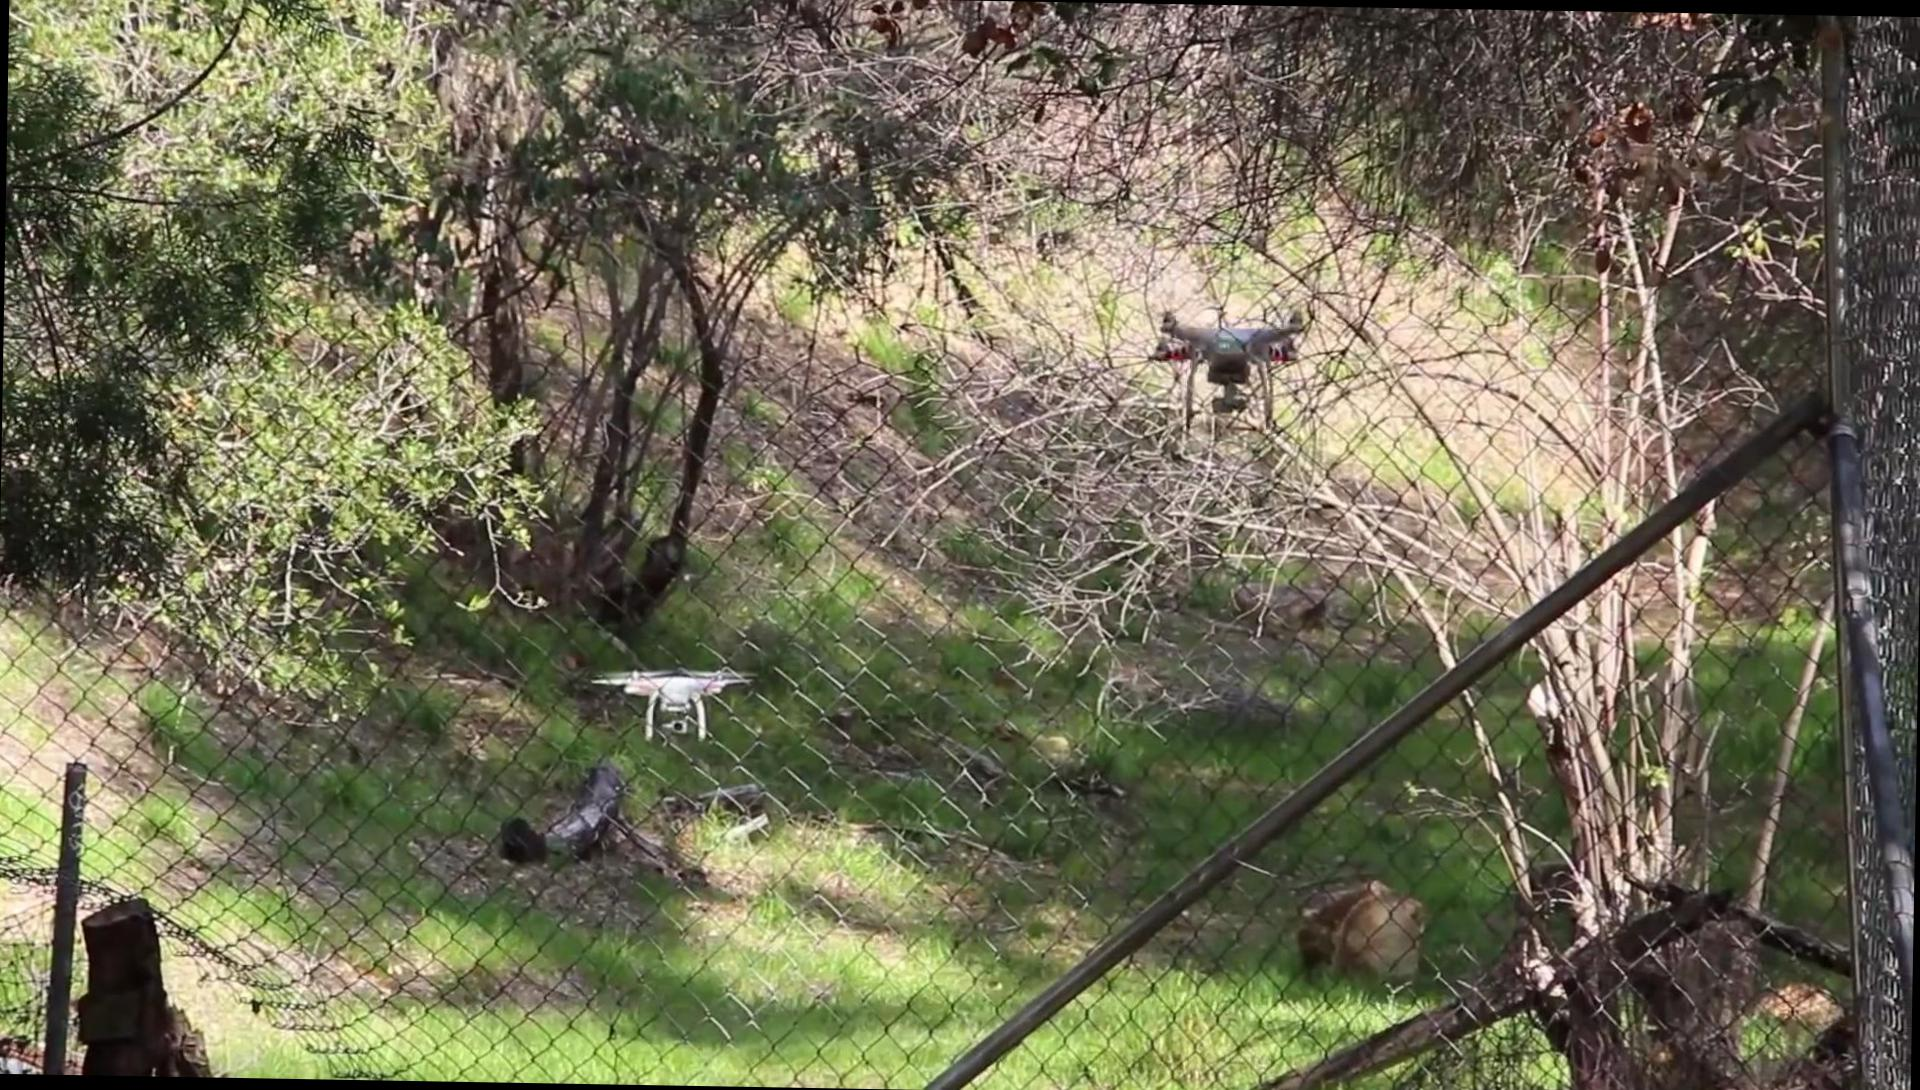drone: (1150, 298, 1316, 419), (575, 659, 753, 745)
